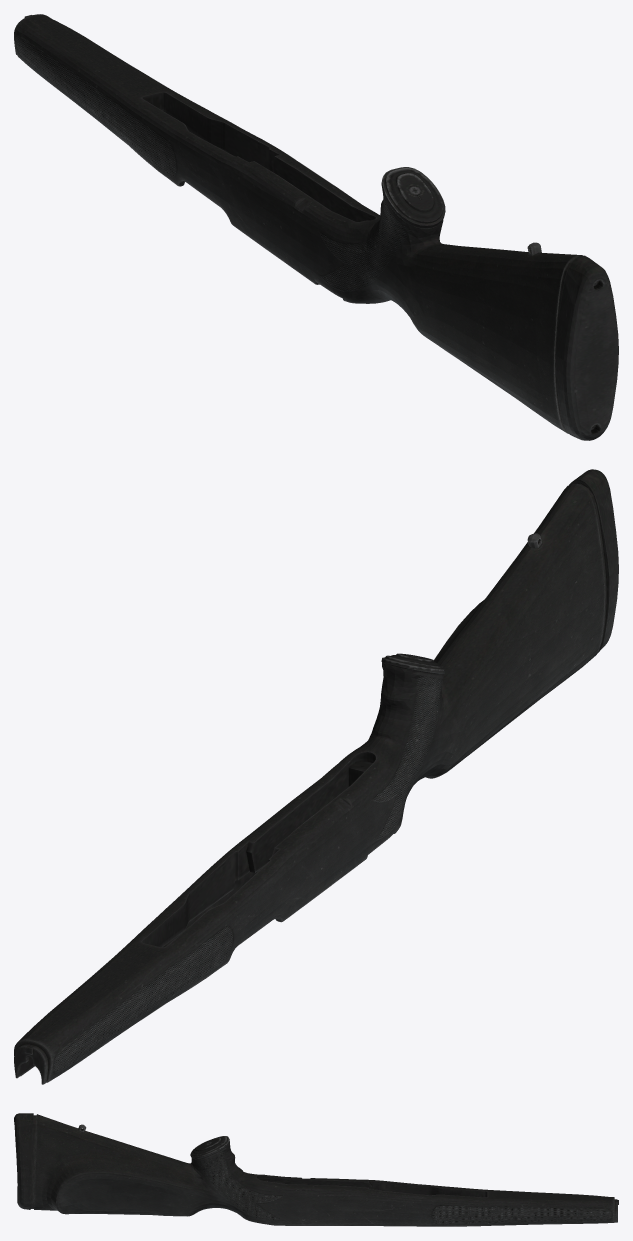
3 views of the same model, one above another, from view 1: azimuth 30°, elevation 25°; view 2: azimuth 150°, elevation 25°; view 3: azimuth 270°, elevation 25° (orthographic). The views are drawn at different scales.
Parts seen in each view (by area): view 1: TW_653ecef836fae5a82f02b869_PZ_Import; view 2: TW_653ecef836fae5a82f02b869_PZ_Import; view 3: TW_653ecef836fae5a82f02b869_PZ_Import.
Part boxes in pixels (x1,y1,x2,y2): TW_653ecef836fae5a82f02b869_PZ_Import: (14, 14, 618, 440); TW_653ecef836fae5a82f02b869_PZ_Import: (14, 469, 618, 1084); TW_653ecef836fae5a82f02b869_PZ_Import: (14, 1113, 618, 1226).
Bounding box in the file's own units: 0.0326 × 0.4439 × 0.0868.
1 material, 1 textured.
